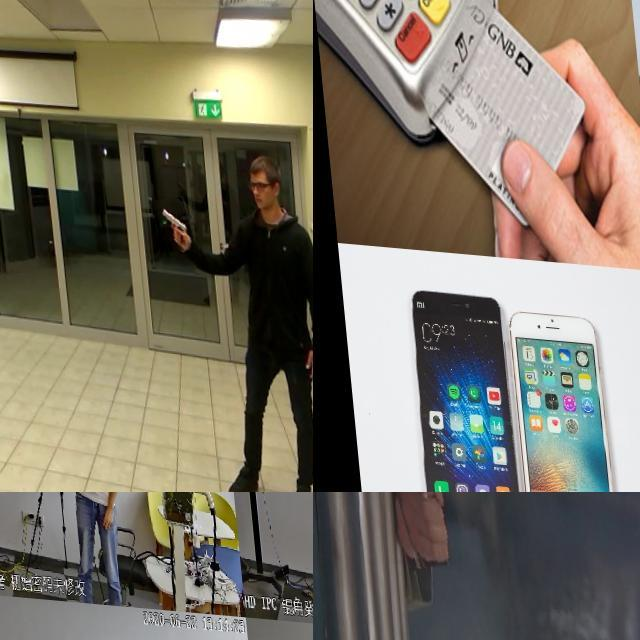gun-knife-thesis - v11 Yolov5 augmented: (368, 492, 453, 587), (146, 188, 190, 246), (18, 492, 43, 516)
